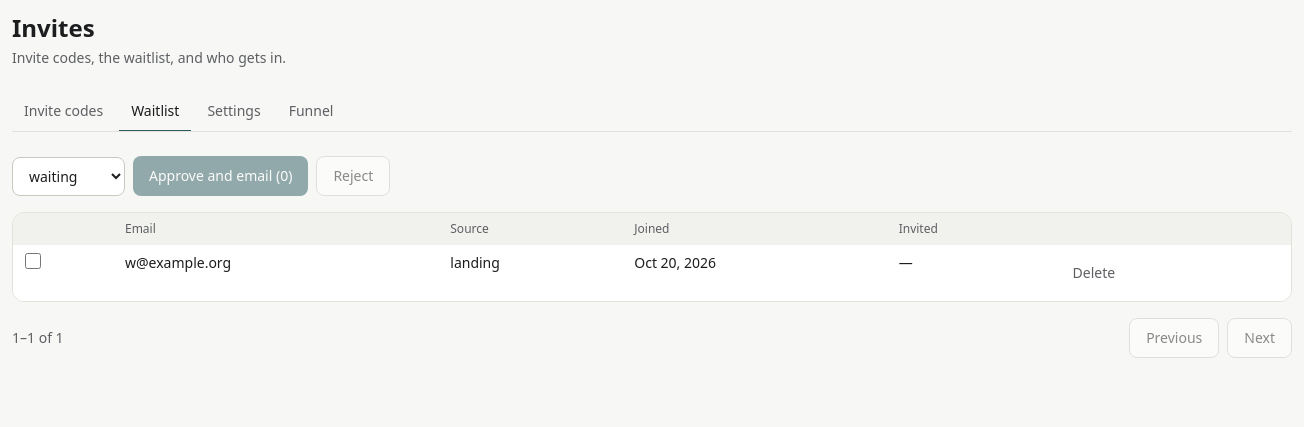
Test: invites › approves selected waitlist entries
Click the checkbox named "Select w@example.org" at [33, 261], box [25, 253, 41, 269]
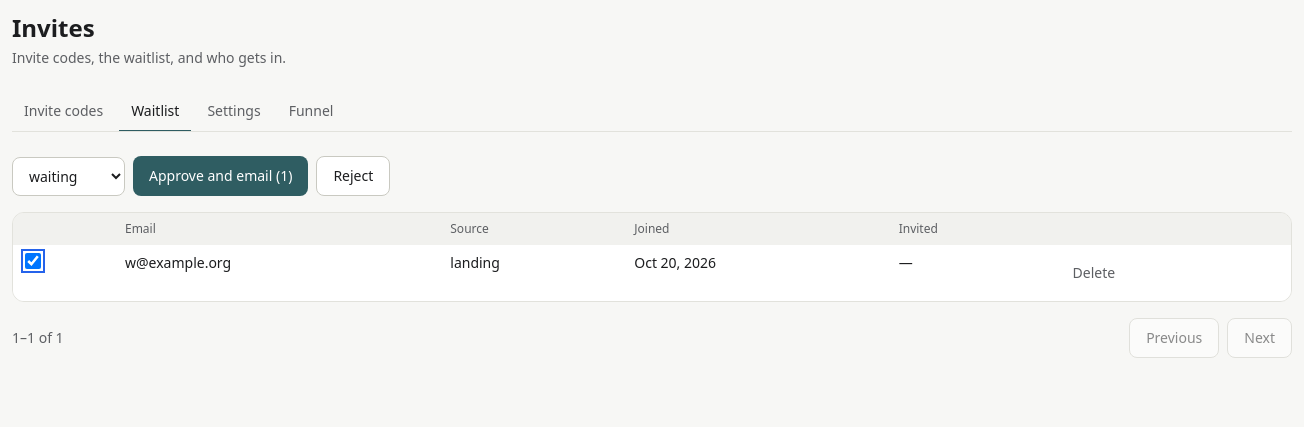
Click the button "Approve and email (1)" at [221, 176], box [133, 156, 308, 196]
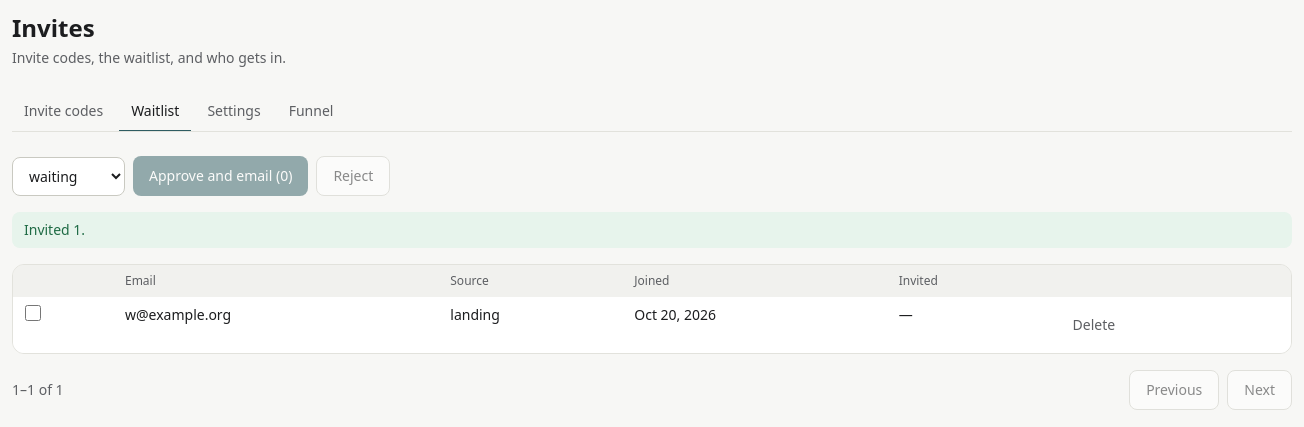
Expected: the message reads "Invited 1.", [24, 220, 85, 239]
